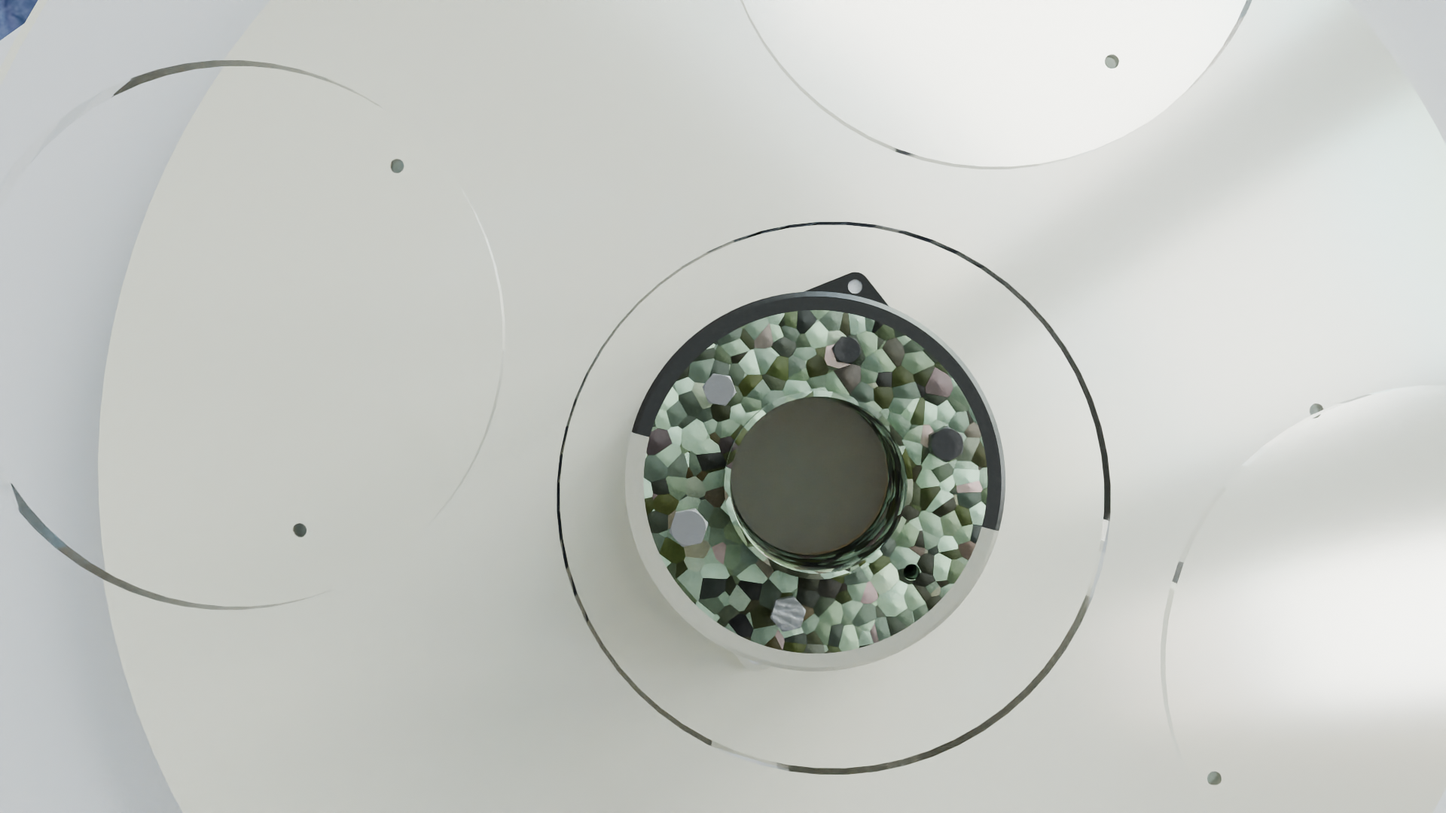bolt: (669, 510, 708, 547), (770, 597, 806, 632), (931, 426, 963, 462), (703, 373, 736, 406), (832, 336, 862, 364)
